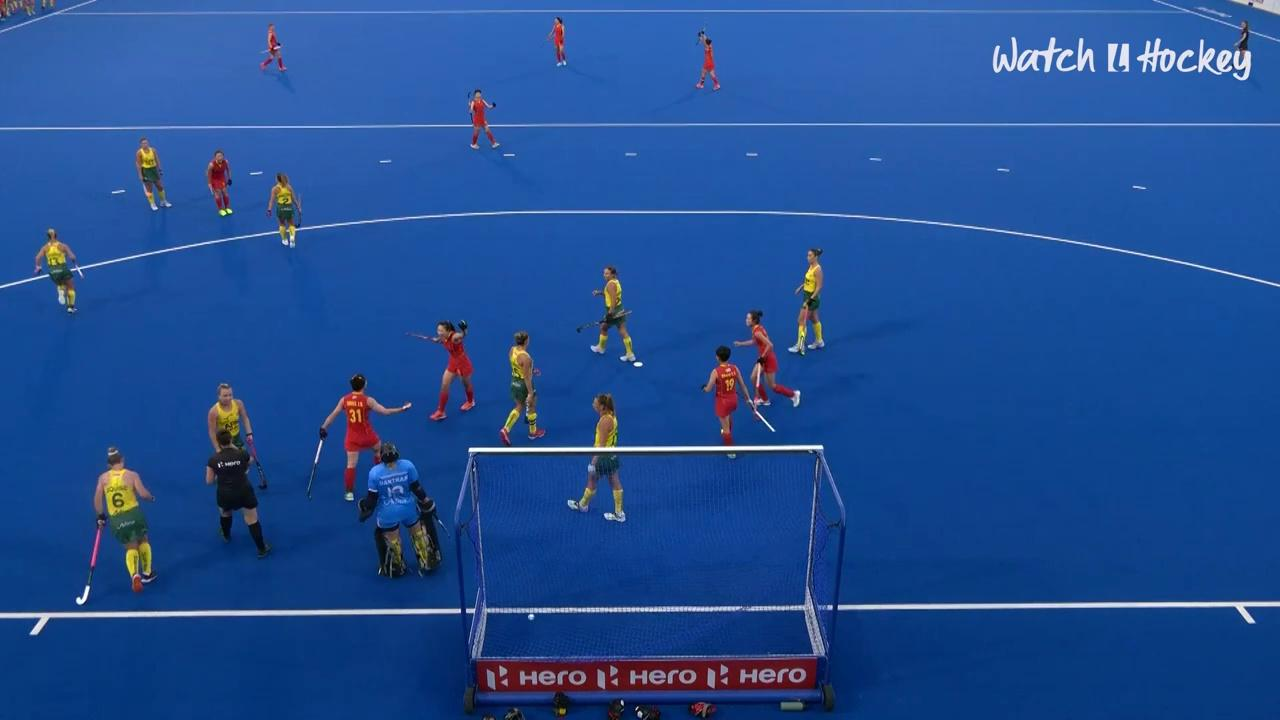ball: (520, 611, 542, 623)
